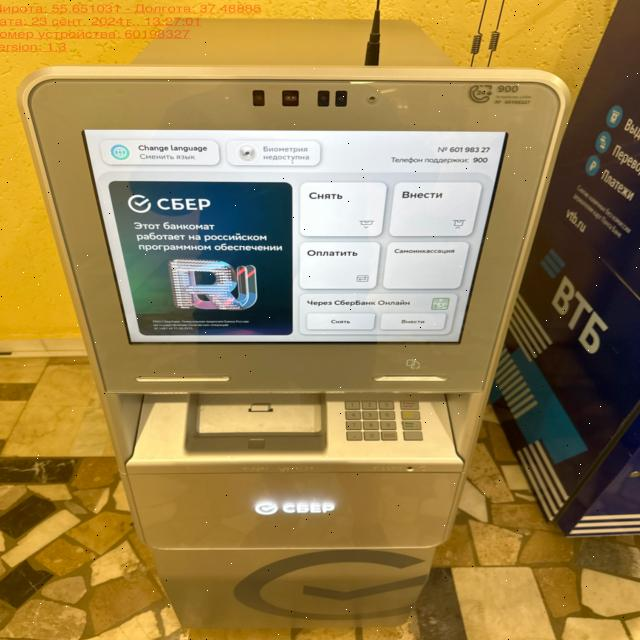bank: (26, 12, 562, 621)
